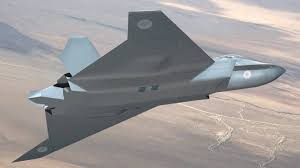fighter: (11, 6, 288, 164)
